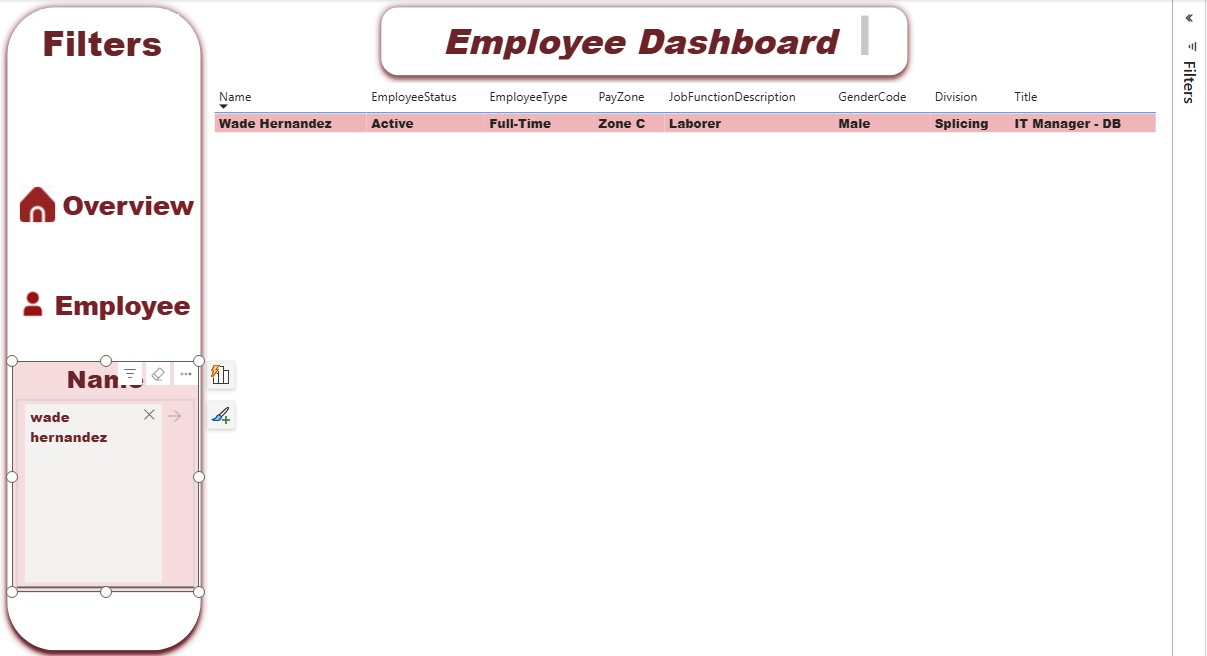

The dashboard page shown, as its layout file describes it:
{"tool":"powerbi","page":{"name":"Employee ","canvas":[1280,720],"ordinal":1},"visuals":[{"type":"shape","box":[0,0,229,719.7],"z":0},{"type":"shape","box":[407.8,0,592.2,92.2],"z":1000},{"type":"textbox","box":[451.2,12.9,501.7,58.2],"z":6000},{"type":"textbox","box":[40.9,16.7,154.7,128.9],"z":15000},{"type":"actionButton","box":[18.4,200.4,198.3,47],"z":16000},{"type":"actionButton","box":[13.6,309.4,198.7,45.5],"z":20000},{"type":"tableEx","fields":{"Values":["employee_data.Name","employee_data.EmployeeStatus","employee_data.EmployeeType","employee_data.PayZone","employee_data.JobFunctionDescription","employee_data.GenderCode","employee_data.Division","employee_data.Title"]},"box":[228.9,91.5,1051.1,601.3],"z":21001},{"type":"textSlicer","fields":{"Values":["employee_data.Name"]},"box":[14.2,394.6,203.6,252.5],"z":21002}]}

Visuals, with their boxes in screenshot pixels (x1, y1, x2, y2):
shape: crop(0, 47, 199, 655)
shape: crop(354, 47, 868, 127)
textbox: crop(392, 58, 827, 109)
textbox: crop(35, 62, 170, 174)
actionButton: crop(16, 221, 188, 262)
actionButton: crop(12, 316, 184, 355)
tableEx - employee_data.Name x employee_data.EmployeeStatus: crop(199, 127, 1111, 648)
textSlicer - employee_data.Name: crop(12, 390, 189, 609)
